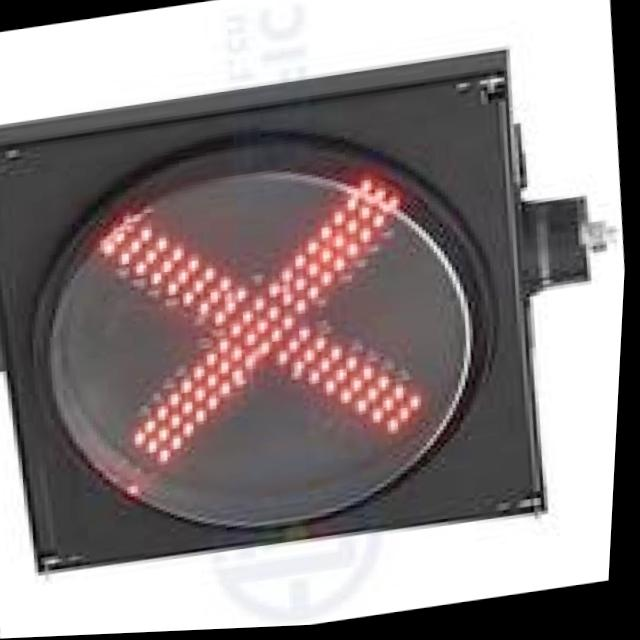red_light: (0, 41, 512, 572)
